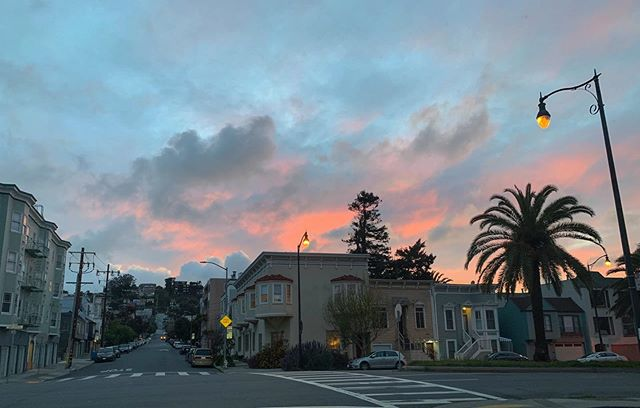building: (219, 255, 370, 370), (1, 199, 76, 372), (505, 272, 640, 362), (368, 276, 441, 361), (439, 286, 500, 356)
crosswalk: (266, 367, 482, 408), (40, 367, 232, 387)
light pole: (534, 67, 640, 344), (286, 230, 321, 359), (194, 255, 234, 361)
power pole: (59, 238, 98, 364)
sky: (1, 1, 617, 242)
